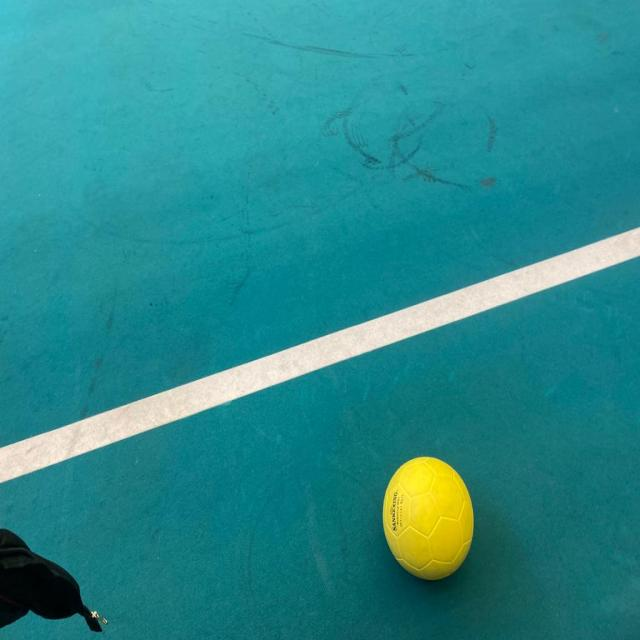ball: (374, 440, 479, 596)
